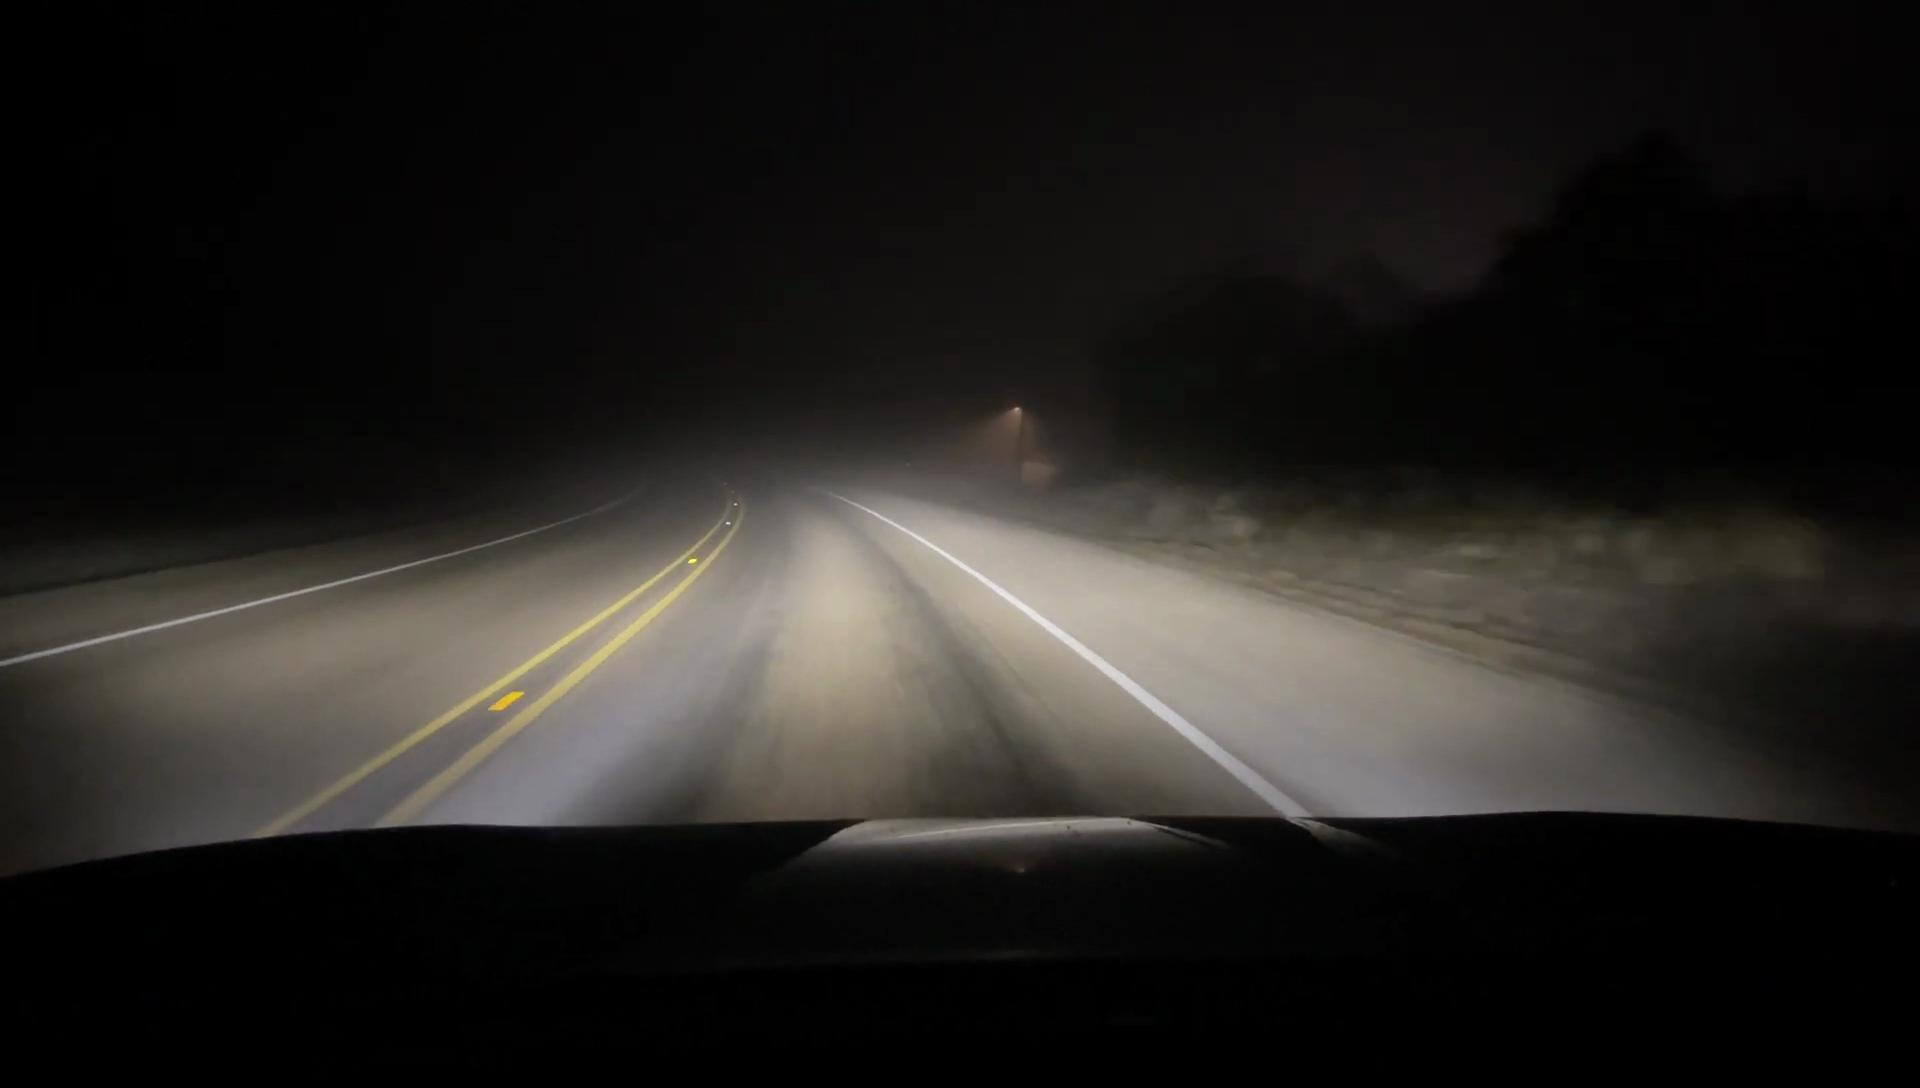road-lanes: (421, 497, 1287, 827)
